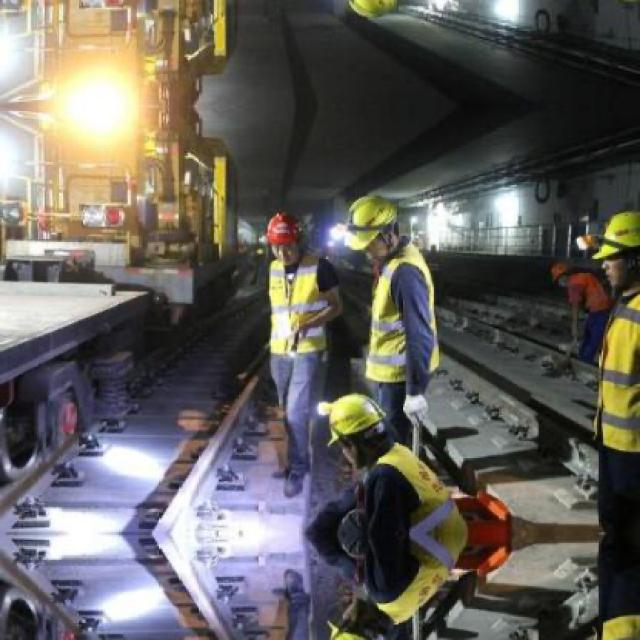con casco: (301, 380, 443, 498), (232, 198, 334, 284), (332, 194, 424, 288), (595, 170, 640, 322)
